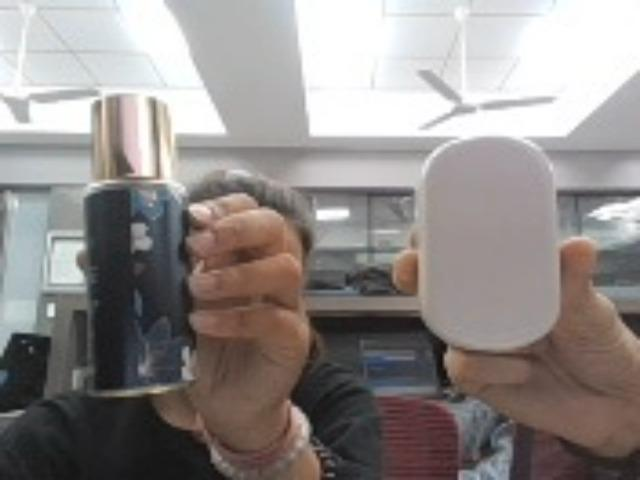box: (394, 123, 571, 352)
cube: (58, 78, 229, 413)
